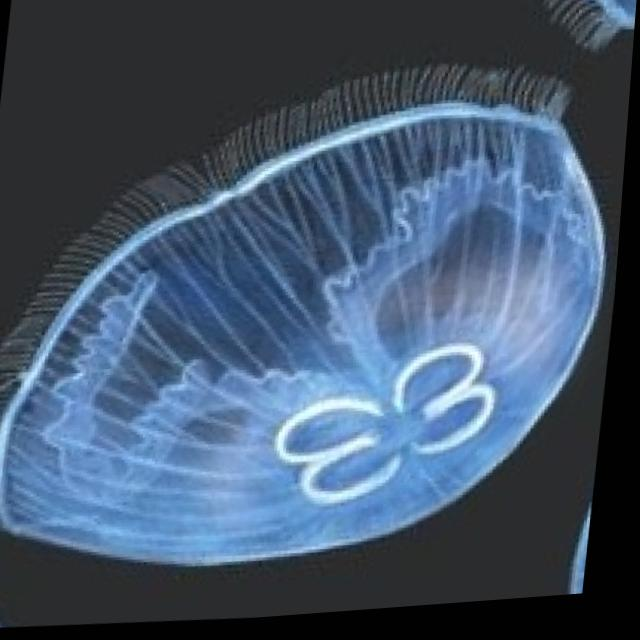Moon-jellyfish: (0, 37, 636, 596)
